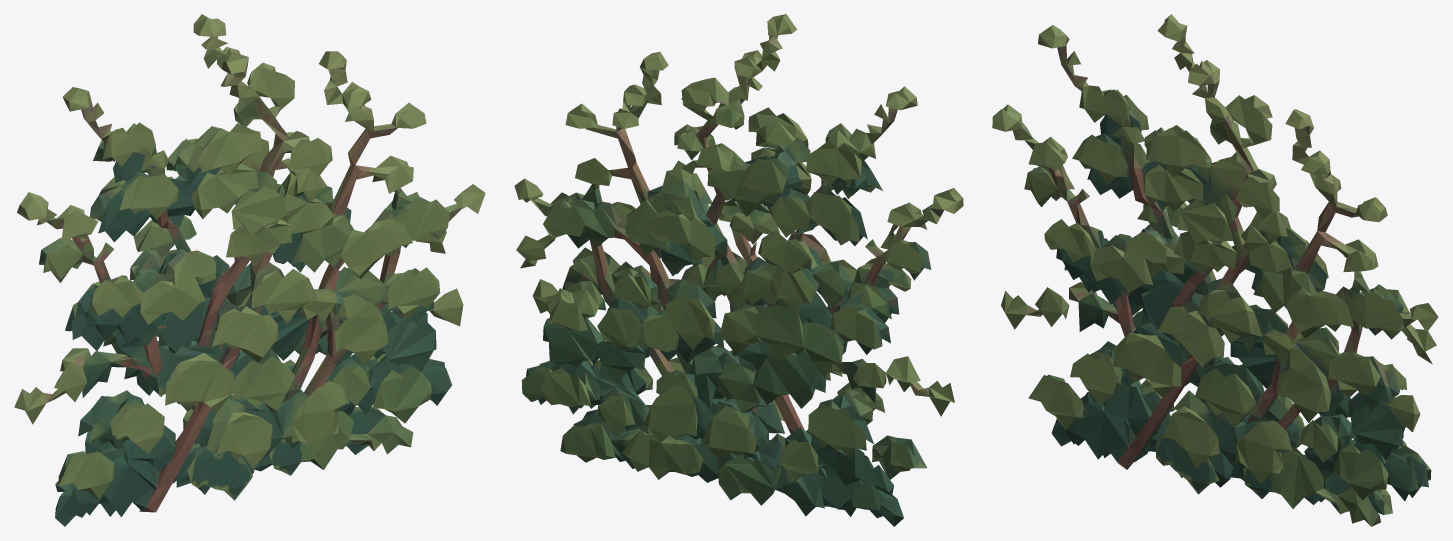
File: ivy_patch.glb
The picture shows the model from 3 angles, left to right: view 1: azimuth 30°, elevation 25°; view 2: azimuth 150°, elevation 25°; view 3: azimuth 330°, elevation 25°; orthographic projection. The views are drawn at different scales.
Visible parts, largest first — view 1: ivy_patch; view 2: ivy_patch; view 3: ivy_patch.
Boxes of the visible parts, x1,y1,x2,y2 form: ivy_patch: (14,14,485,526); ivy_patch: (514,14,963,526); ivy_patch: (992,14,1438,526).
Bounding box in the file's own units: 1.78 × 1.8 × 0.2711.
1 material, 1 textured.
